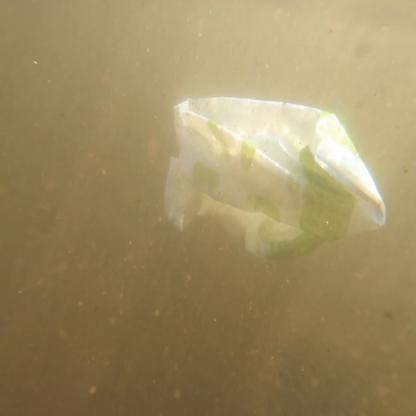Rác: (154, 81, 400, 270)
